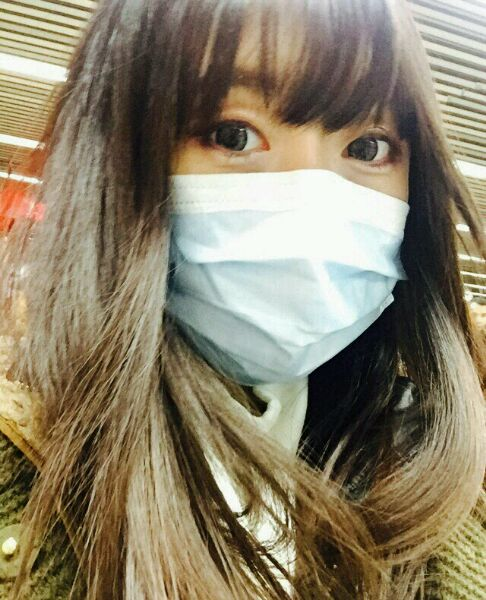face_mask: (164, 0, 418, 376)
